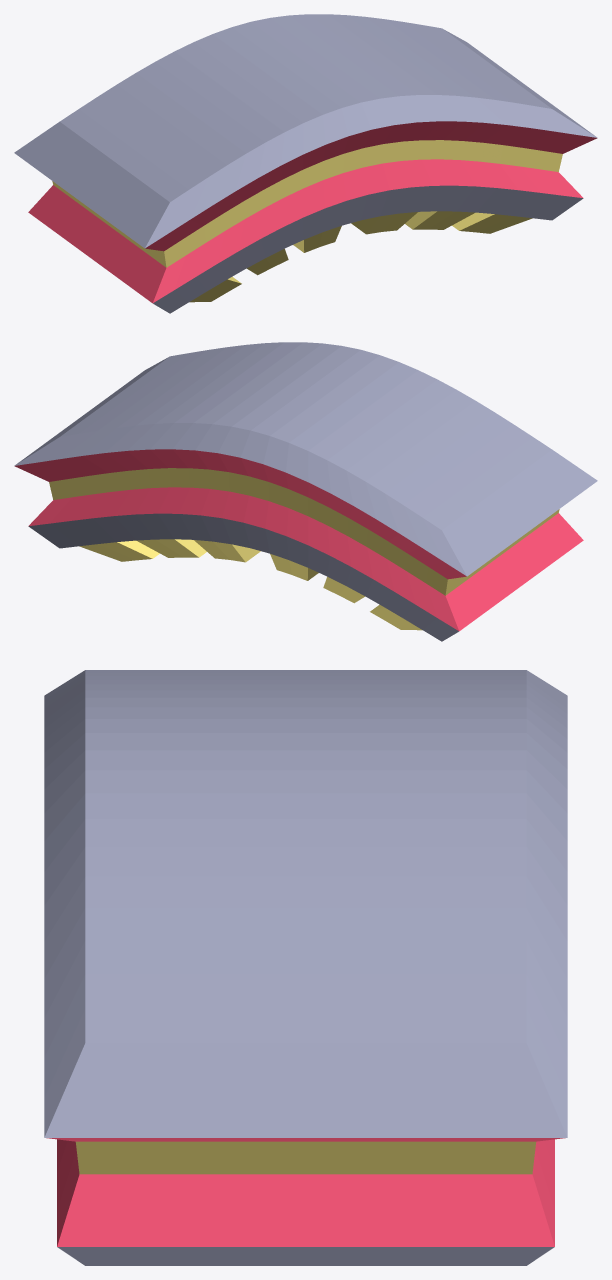
3 views of the same model, one above another, from view 1: azimuth 30°, elevation 25°; view 2: azimuth 150°, elevation 25°; view 3: azimuth 270°, elevation 25° (orthographic). The views are drawn at different scales.
Visible parts, largest first — view 1: Paddle; view 2: Paddle; view 3: Paddle.
Part boxes in pixels (left/top/right/bottom): Paddle: left=14, top=14, right=597, bottom=313; Paddle: left=14, top=342, right=597, bottom=641; Paddle: left=44, top=670, right=567, bottom=1265.
Size of the model in its own units: 4.74 by 1.73 by 2.37.
